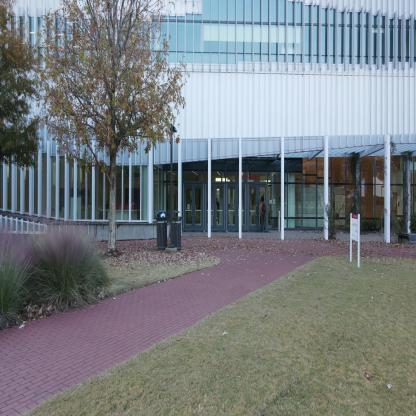Hunt Library: (0, 1, 415, 296)
